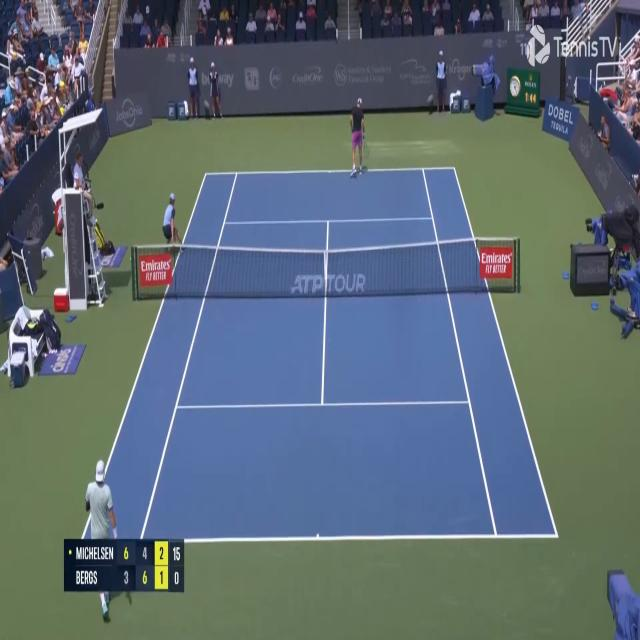tennis-player: (79, 457, 119, 556), (348, 95, 367, 179)
